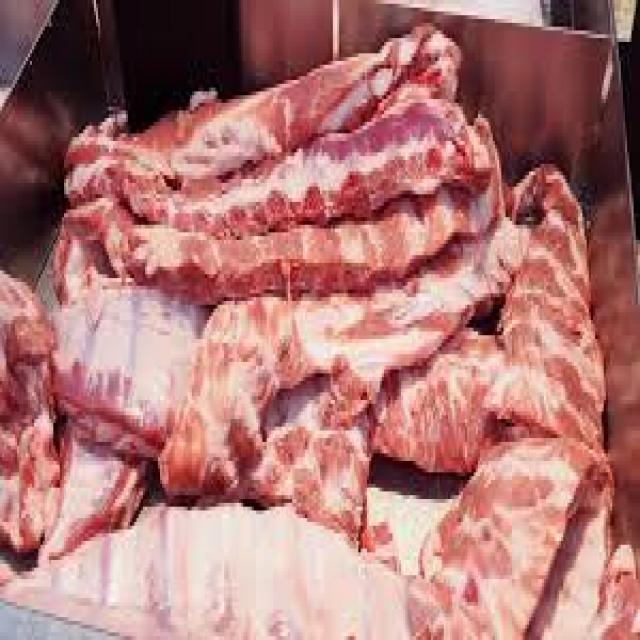Pork: (55, 27, 514, 535), (160, 221, 521, 497), (126, 168, 503, 303), (169, 99, 497, 234), (410, 438, 614, 640), (486, 210, 608, 450)
